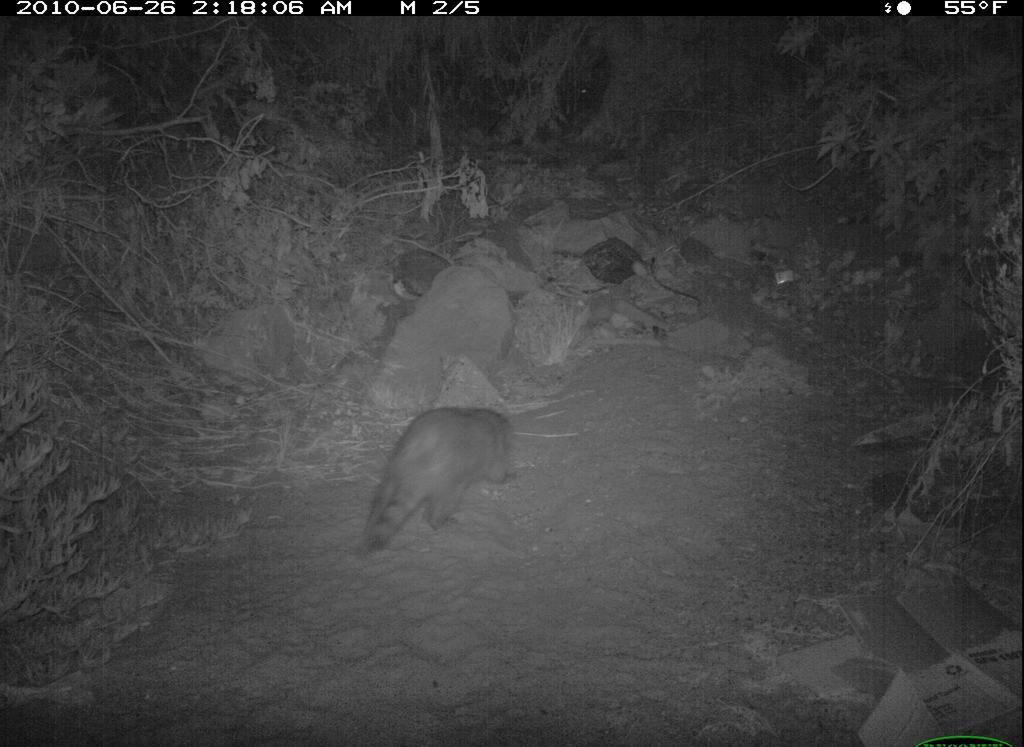raccoon: (354, 402, 524, 562)
